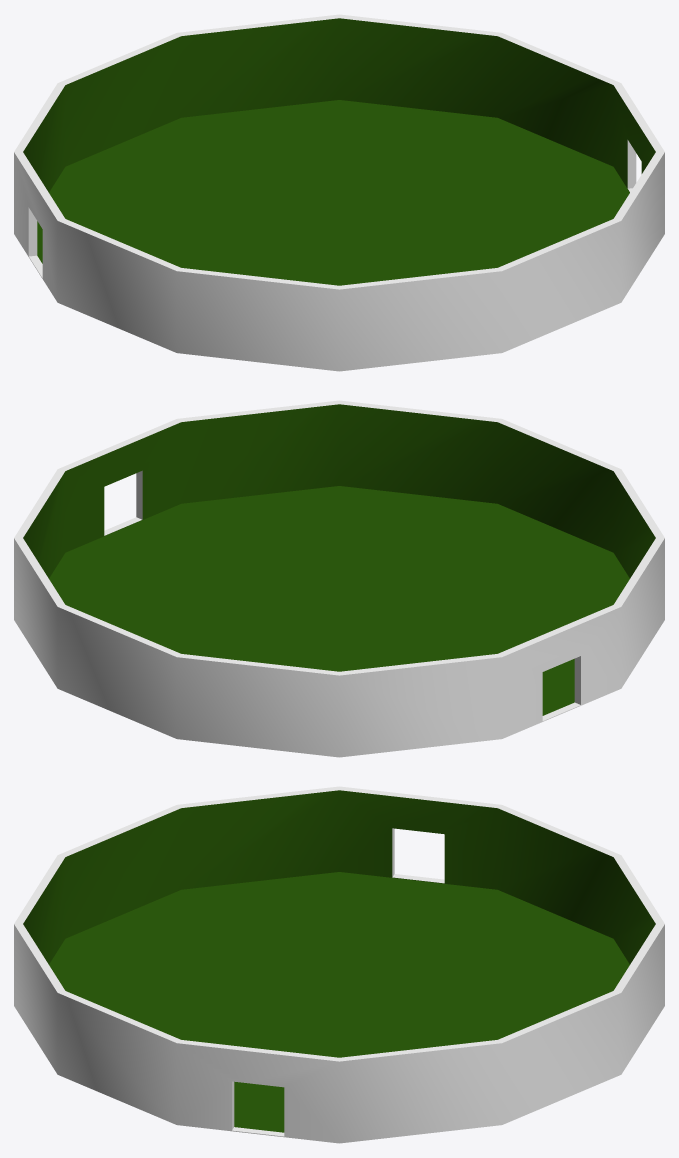
Rendered from blockout.gltf.
3 renders of one model, top to bottom at view 1: azimuth 30°, elevation 25°; view 2: azimuth 150°, elevation 25°; view 3: azimuth 270°, elevation 25°, orthographic.
Parts seen in each view (by area): view 1: CSGCombiner3D2; view 2: CSGCombiner3D2; view 3: CSGCombiner3D2.
Boxes of the visible parts, x1,y1,x2,y2 form: CSGCombiner3D2: (14,14,664,371); CSGCombiner3D2: (14,400,664,757); CSGCombiner3D2: (14,786,664,1143).
Size of the model in its own units: 36 by 5 by 36.
